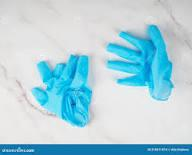Glove: (107, 25, 172, 100), (31, 55, 91, 126)
